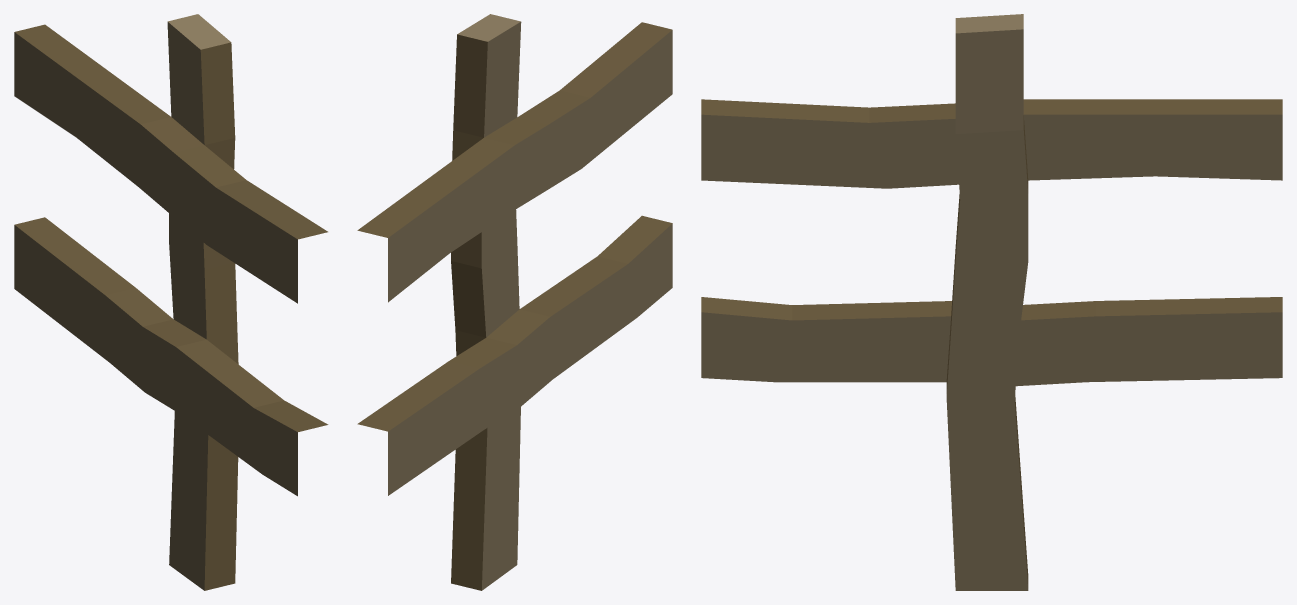
The picture shows the model from 3 angles, left to right: view 1: azimuth 30°, elevation 25°; view 2: azimuth 150°, elevation 25°; view 3: azimuth 270°, elevation 25°; orthographic projection. The views are drawn at different scales.
Size of the model in its own units: 16 by 136 by 128.
1 material, 1 textured.
